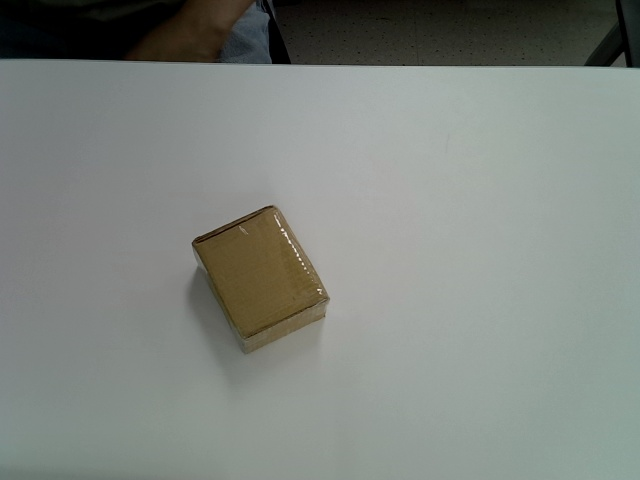normal: (192, 204, 330, 354)
